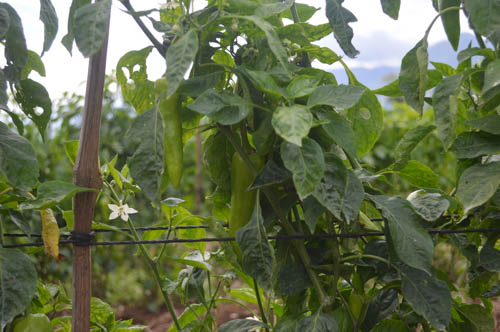ChiliPepper: (154, 78, 185, 188), (228, 153, 266, 240)
